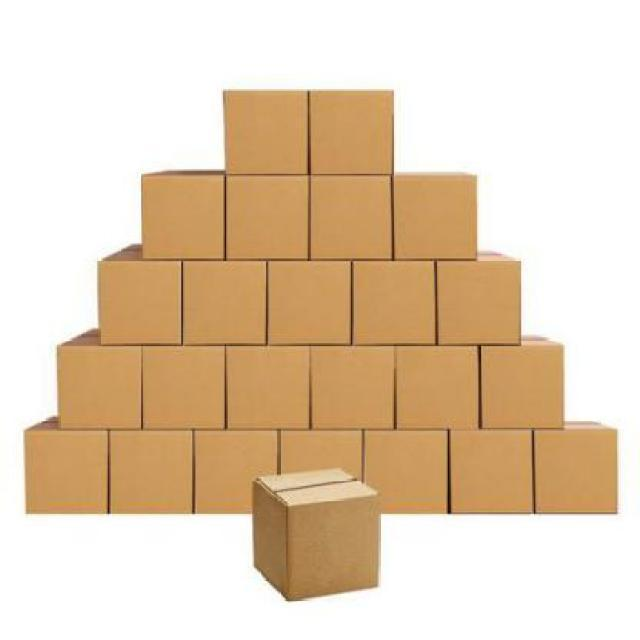box: (252, 466, 384, 604), (94, 242, 185, 348), (478, 328, 566, 432), (448, 424, 540, 522), (56, 330, 144, 432), (531, 420, 619, 522), (22, 414, 108, 517), (264, 258, 354, 350), (438, 252, 526, 346), (306, 89, 398, 178), (139, 167, 230, 256), (394, 172, 485, 260), (180, 258, 269, 346), (308, 174, 395, 264), (228, 343, 315, 431), (226, 172, 315, 258), (138, 346, 228, 431), (195, 426, 276, 520), (221, 89, 310, 174), (108, 428, 193, 516), (395, 346, 485, 428), (364, 432, 452, 514), (311, 347, 398, 428), (356, 263, 436, 351), (282, 432, 366, 478)
